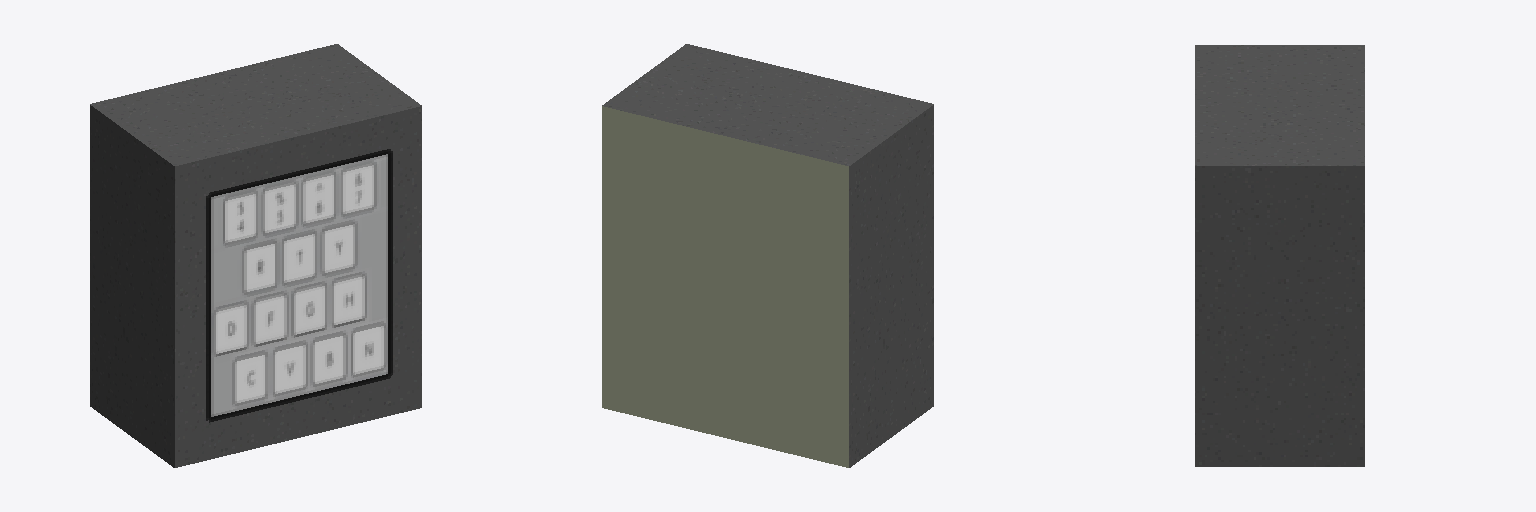
3 renders of one model, left to right at view 1: azimuth 30°, elevation 25°; view 2: azimuth 150°, elevation 25°; view 3: azimuth 270°, elevation 25°, orthographic.
Visible parts, largest first — view 1: keypad; view 2: keypad; view 3: keypad.
Boxes of the visible parts, x1=… form: keypad: x1=90, y1=44, x2=421, y2=467; keypad: x1=602, y1=44, x2=933, y2=467; keypad: x1=1195, y1=45, x2=1364, y2=466.
Size of the model in its own units: 0.2 by 0.2328 by 0.119.
2 materials, 1 textured.